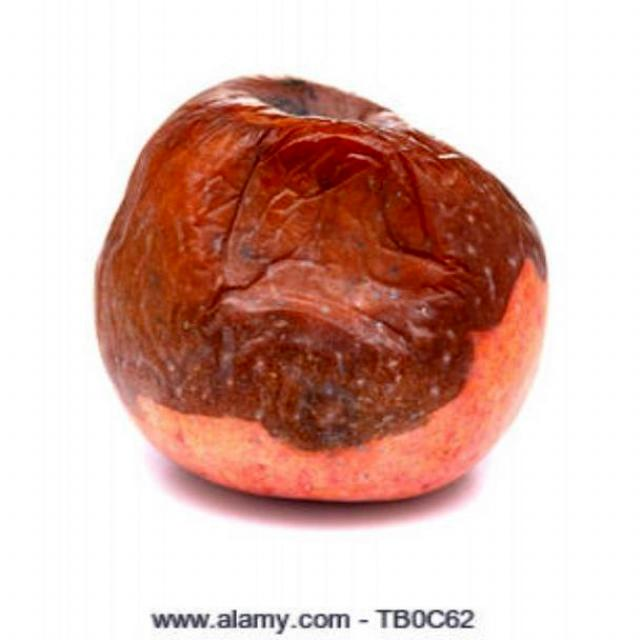ROT: (80, 78, 538, 566)
